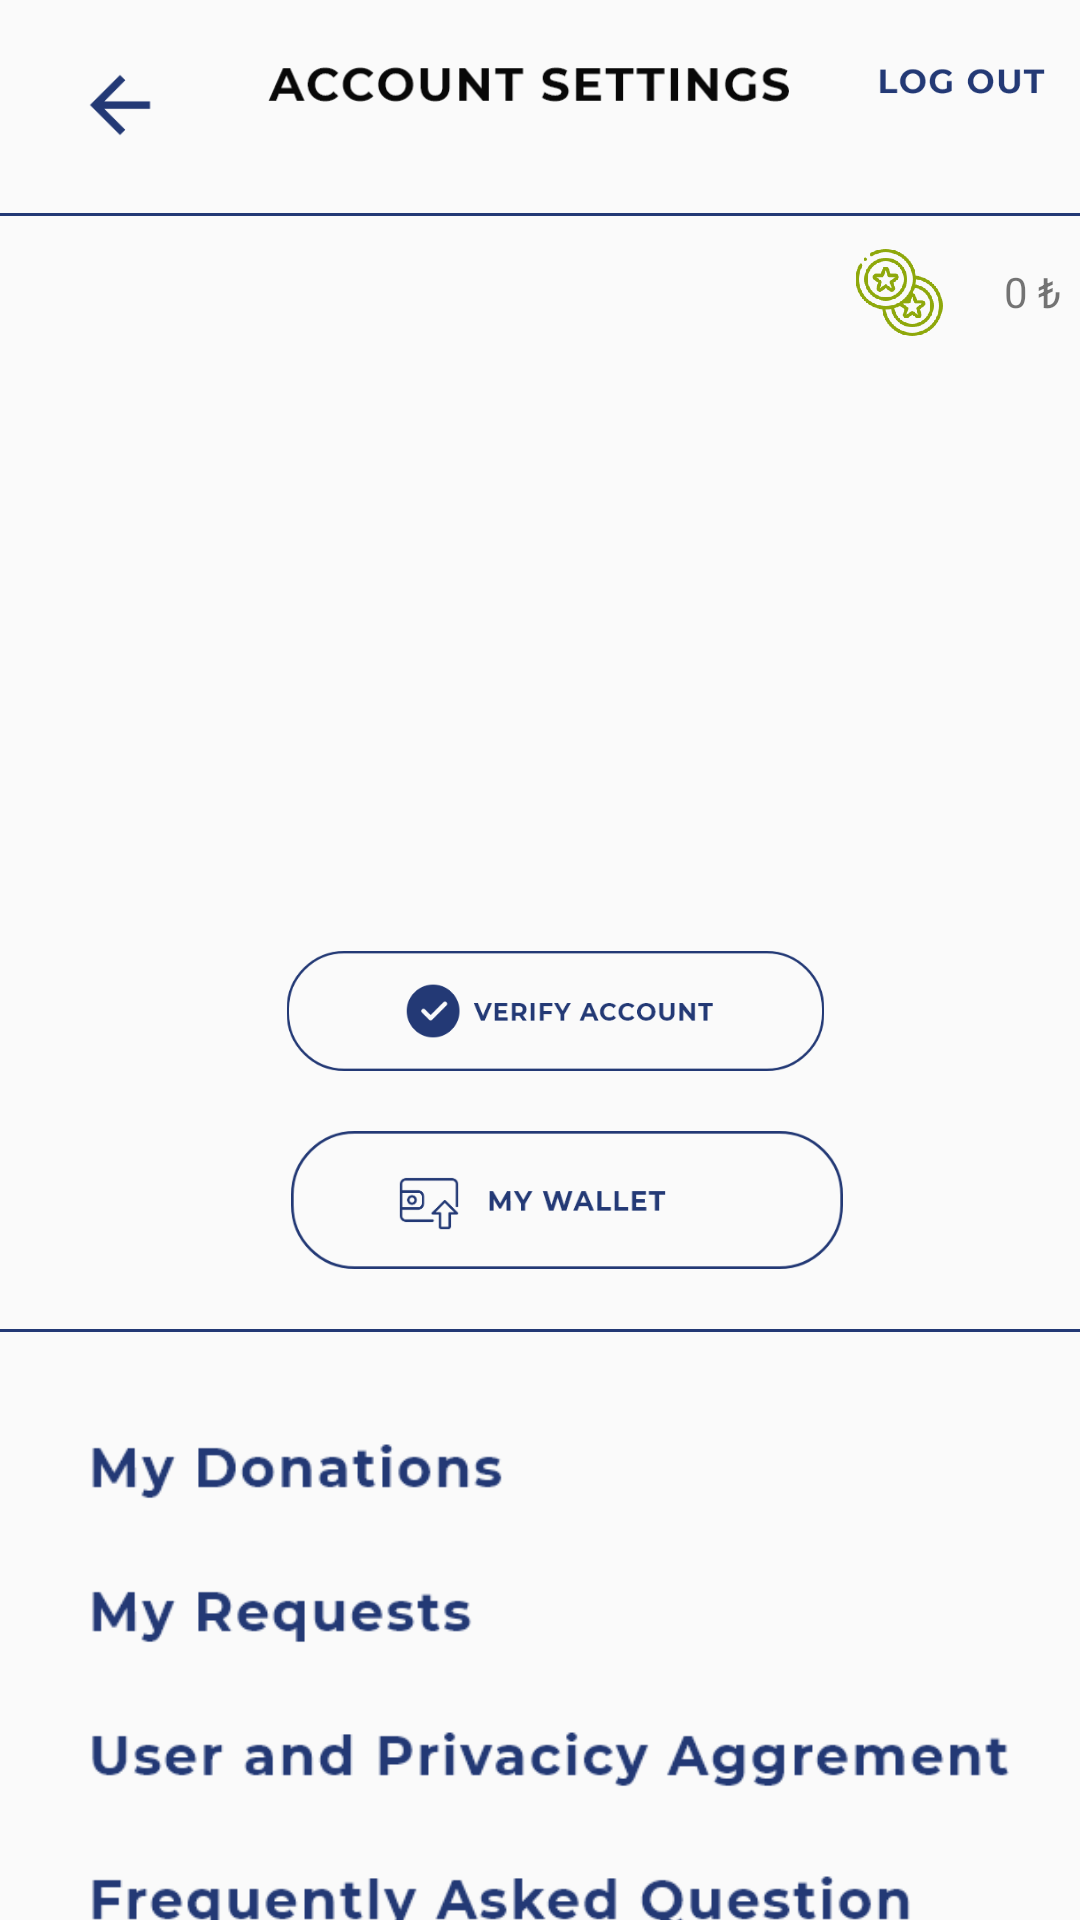

Icons on this 1080w x 1920h Android screen, each with its box as {"x1": x1, "y1": y1, "x2": x2, "y2": y2}:
arrow back: {"x1": 90, "y1": 75, "x2": 151, "y2": 135}
sharetoken: {"x1": 856, "y1": 249, "x2": 943, "y2": 336}
